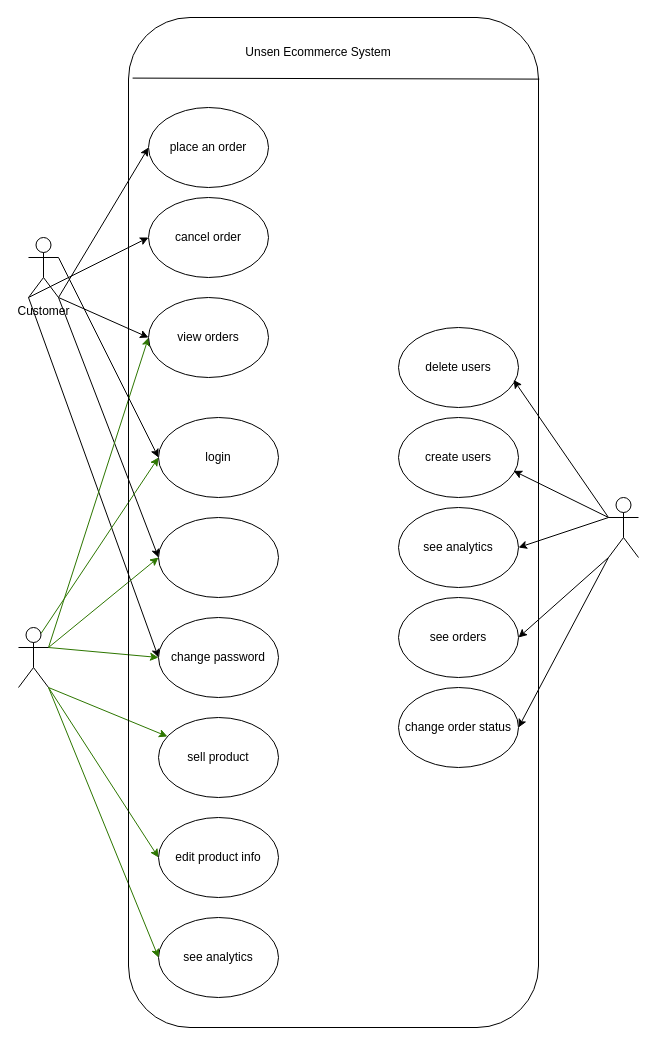
Image size: 657x1045. Some labels were removed from this diagram. The centre of each missing label's shape, as x and y in pixels:
"Admin" belongs at point (623, 527).
"Seller" belongs at point (33, 657).
"signup" belongs at point (218, 557).
